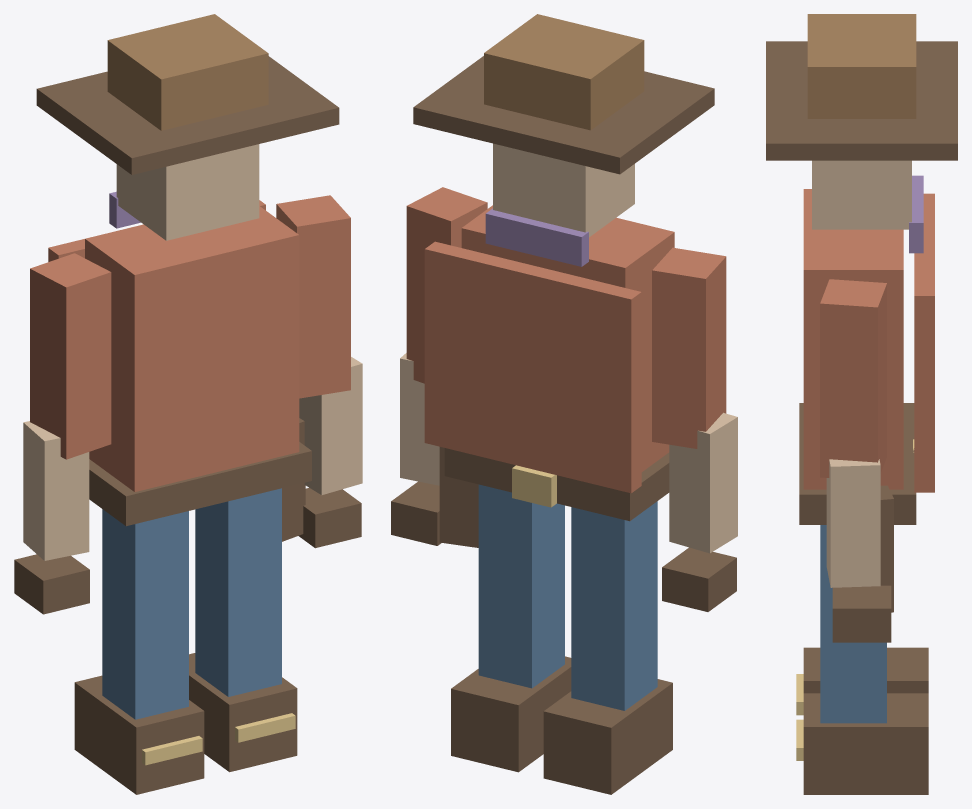
File: cowboy_vaqueiro.glb
The picture shows the model from 3 angles, left to right: view 1: azimuth 30°, elevation 25°; view 2: azimuth 150°, elevation 25°; view 3: azimuth 270°, elevation 25°; orthographic projection.
Visible parts, largest first — view 1: torso_shirt, leg (×2), upper_arm (×2), boot (×2), hat_brim, hat_crown, forearm (×2), head, belt, glove (×2), spur (×2), holster; view 2: poncho_front, leg (×2), upper_arm (×2), boot (×2), hat_brim, hat_crown, forearm (×2), torso_shirt, head, glove (×2), belt, bandana (+2 smaller); view 3: hat_brim, boot (×2), torso_shirt, upper_arm, hat_crown, head, forearm, leg, poncho_front, glove, belt, holster (+1 smaller).
Part boxes in pixels (box(x1,y1,x2,y2)): torso_shirt: box(85, 206, 299, 491); leg (×2): box(102, 488, 281, 719); upper_arm (×2): box(30, 195, 350, 459); boot (×2): box(74, 653, 297, 794); hat_brim: box(36, 56, 339, 174); hat_crown: box(107, 14, 268, 130); forearm (×2): box(23, 357, 362, 560); head: box(116, 144, 259, 240); belt: box(89, 442, 311, 526); glove (×2): box(14, 487, 361, 614); spur (×2): box(142, 713, 295, 765); holster: box(282, 418, 305, 541); poncho_front: box(424, 241, 641, 493); leg (×2): box(478, 484, 657, 710); upper_arm (×2): box(406, 187, 726, 448); boot (×2): box(451, 656, 672, 794); hat_brim: box(413, 56, 714, 174); hat_crown: box(484, 14, 644, 130); forearm (×2): box(400, 353, 737, 553); torso_shirt: box(461, 205, 674, 471); head: box(493, 143, 634, 237); glove (×2): box(391, 481, 736, 611); belt: box(444, 448, 669, 521); bandana: box(485, 208, 588, 266); hat_brim: box(766, 41, 957, 160); boot (×2): box(803, 647, 928, 794); torso_shirt: box(803, 189, 903, 489); upper_arm: box(820, 279, 886, 477); hat_crown: box(807, 14, 916, 118); head: box(812, 160, 911, 229); forearm: box(826, 459, 880, 587); leg: box(820, 525, 886, 723); poncho_front: box(914, 193, 934, 492); glove: box(832, 585, 891, 642); belt: box(799, 403, 916, 524); holster: box(880, 485, 893, 612).
Size of the model in its own units: 0.89 by 1.89 by 0.46.
